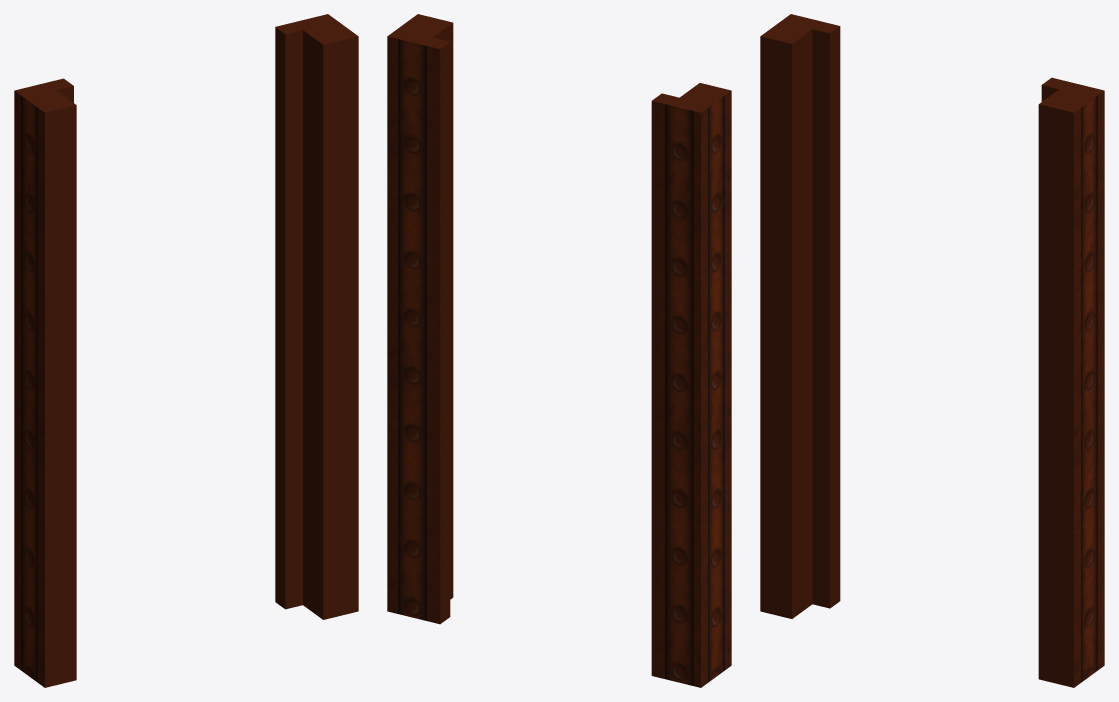
Rendered from SM_world_3_door_small_frame.fbx.
3 renders of one model, left to right at view 1: azimuth 30°, elevation 25°; view 2: azimuth 150°, elevation 25°; view 3: azimuth 330°, elevation 25°, orthographic.
Parts seen in each view (by area): view 1: Ground_Factory.007; view 2: Ground_Factory.007; view 3: Ground_Factory.007.
Part boxes in pixels (x1,y1,x2,y2): Ground_Factory.007: [14, 14, 358, 687]; Ground_Factory.007: [387, 14, 731, 687]; Ground_Factory.007: [760, 14, 1104, 687].
Size of the model in its own units: 890 by 150 by 1559.
